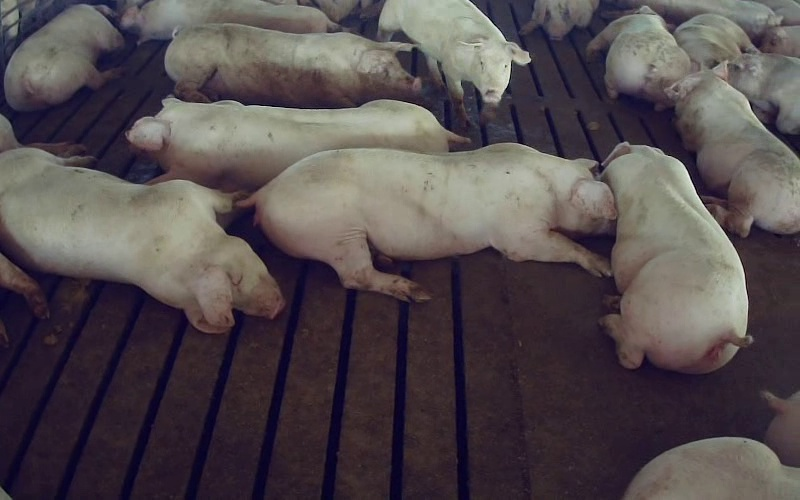pig: (241, 144, 613, 301), (600, 143, 750, 373), (126, 98, 467, 191), (667, 61, 799, 236), (164, 24, 420, 107), (378, 0, 530, 125), (4, 4, 123, 110), (586, 6, 690, 110), (120, 0, 338, 42), (727, 53, 799, 134), (674, 14, 758, 70)
